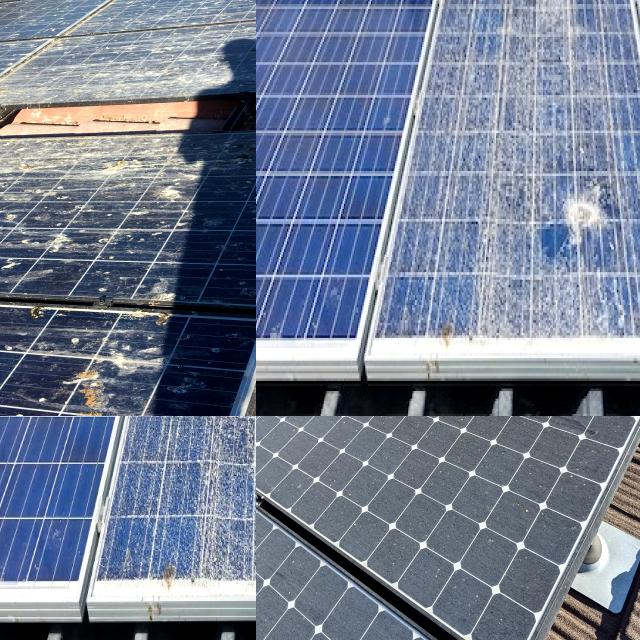bird: (60, 350, 137, 416), (12, 222, 106, 265), (0, 149, 35, 239), (122, 276, 202, 312), (144, 174, 204, 216)
dust: (395, 421, 473, 584), (479, 416, 612, 476), (295, 416, 382, 505), (473, 556, 534, 640), (256, 548, 339, 599), (302, 416, 416, 444), (256, 416, 316, 466)
hotspot: (532, 176, 628, 280)
